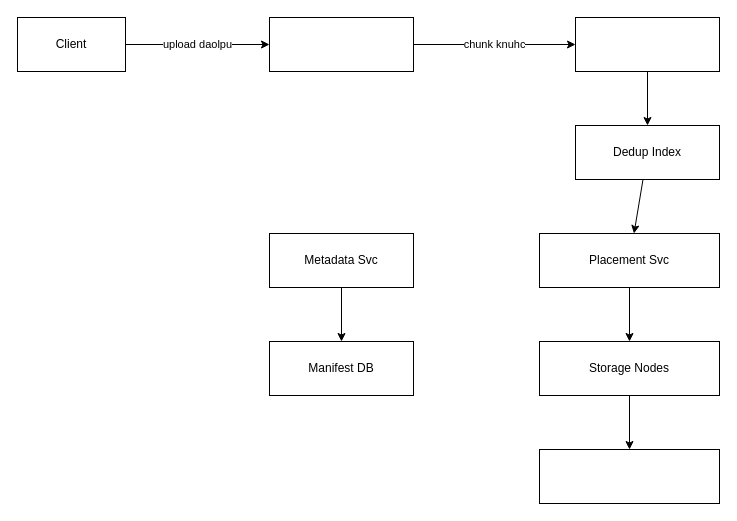
This 737x521 diagram has some shape labels left out. The centre of each missing label's shape, as x and y in pixels:
"Chunker" belongs at (647,44).
"Edge Node" belongs at (341,44).
"Repair Worker" belongs at (629,476).
